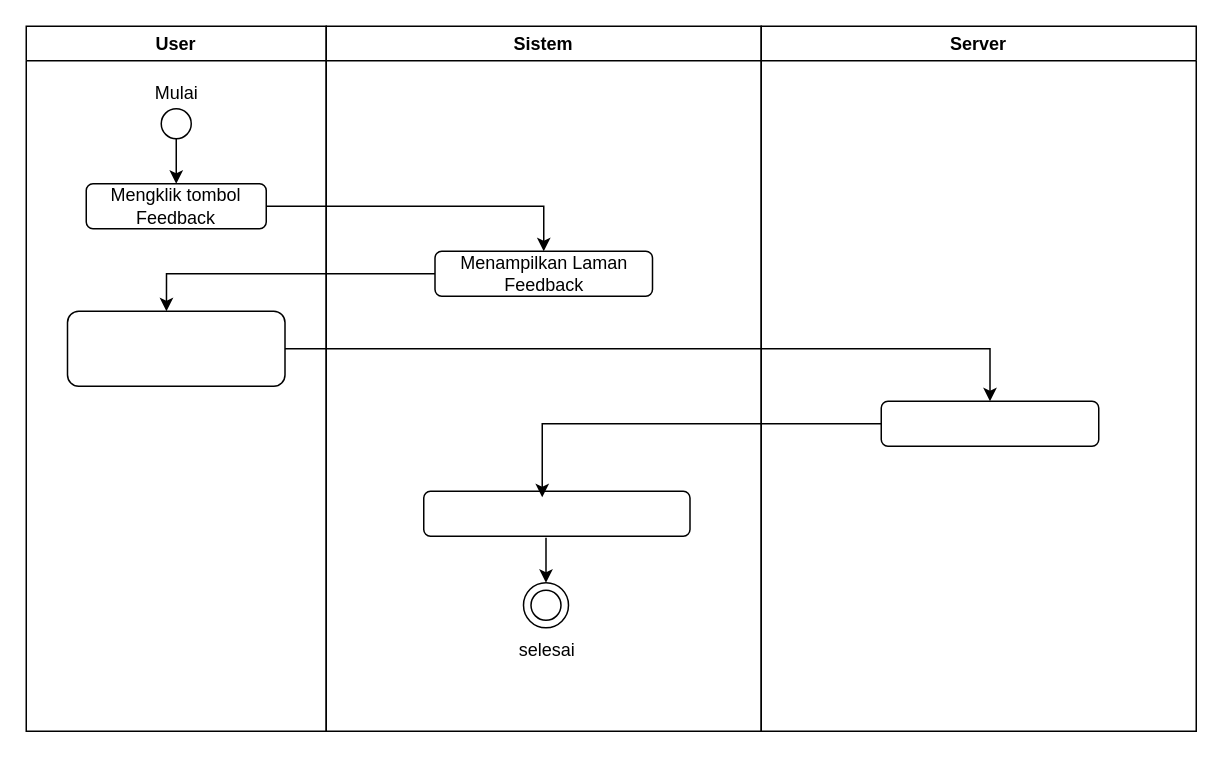
The diagram is 1223 pixels wide and 758 high, and some of its shapes have lost their labels. Here are the shapes that lost their labels. From the top down, the centre of each, then its label:
pixel 175 348: User Mengisi Feedback dan Menekan tombol Submit
pixel 989 423: Menyimpan Feedback Pada Database
pixel 556 513: Menampilkan pesan Feedback berhasil disimpan/dibuat
